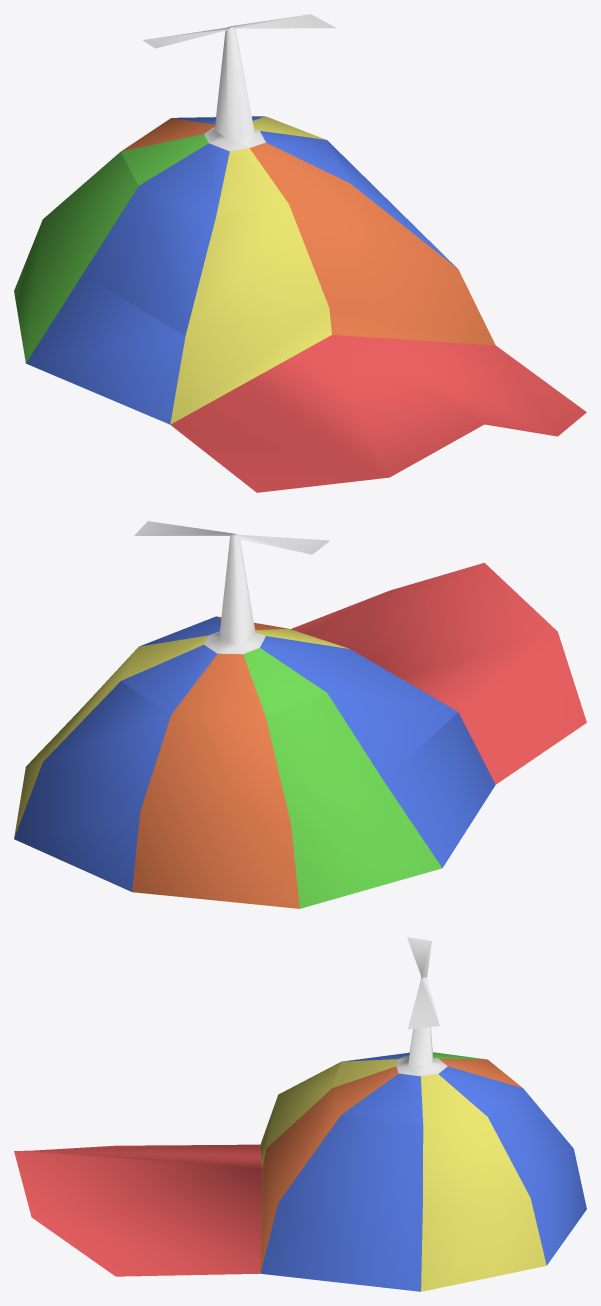
Rendered from Cappy.fbx.
3 views of the same model, one above another, from view 1: azimuth 30°, elevation 25°; view 2: azimuth 150°, elevation 25°; view 3: azimuth 270°, elevation 25° (orthographic). The views are drawn at different scales.
Visible parts, largest first — view 1: cappy; view 2: cappy; view 3: cappy.
Part boxes in pixels (left/top/right/bottom): cappy: left=14, top=14, right=586, bottom=492; cappy: left=14, top=521, right=586, bottom=908; cappy: left=14, top=937, right=586, bottom=1291.
Bounding box in the file's own units: 41.22 × 27.83 × 60.39.
